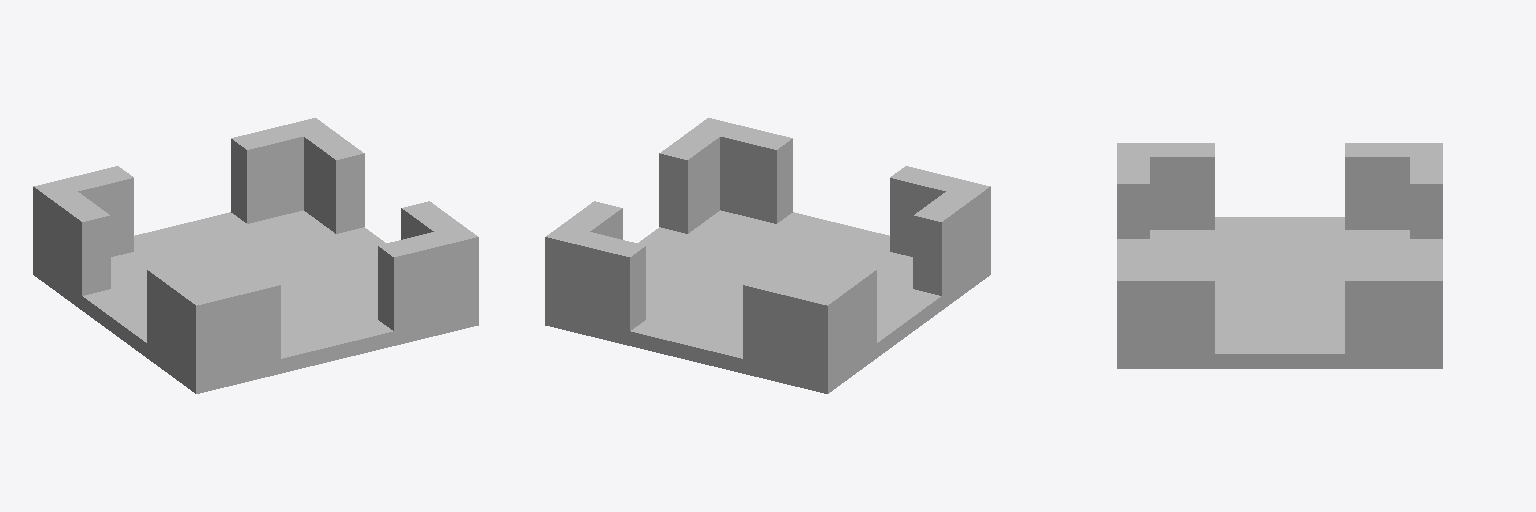
Rendered from intersectionfinal.obj.
3 views of the same model, side by side, from view 1: azimuth 30°, elevation 25°; view 2: azimuth 150°, elevation 25°; view 3: azimuth 270°, elevation 25° (orthographic).
Visible parts, largest first — view 1: Intersection; view 2: Intersection; view 3: Intersection.
Boxes of the visible parts, x1,y1,x2,y2 form: Intersection: [33, 118, 478, 393]; Intersection: [545, 118, 990, 393]; Intersection: [1117, 143, 1442, 368].
Size of the model in its own units: 40 by 12 by 40.